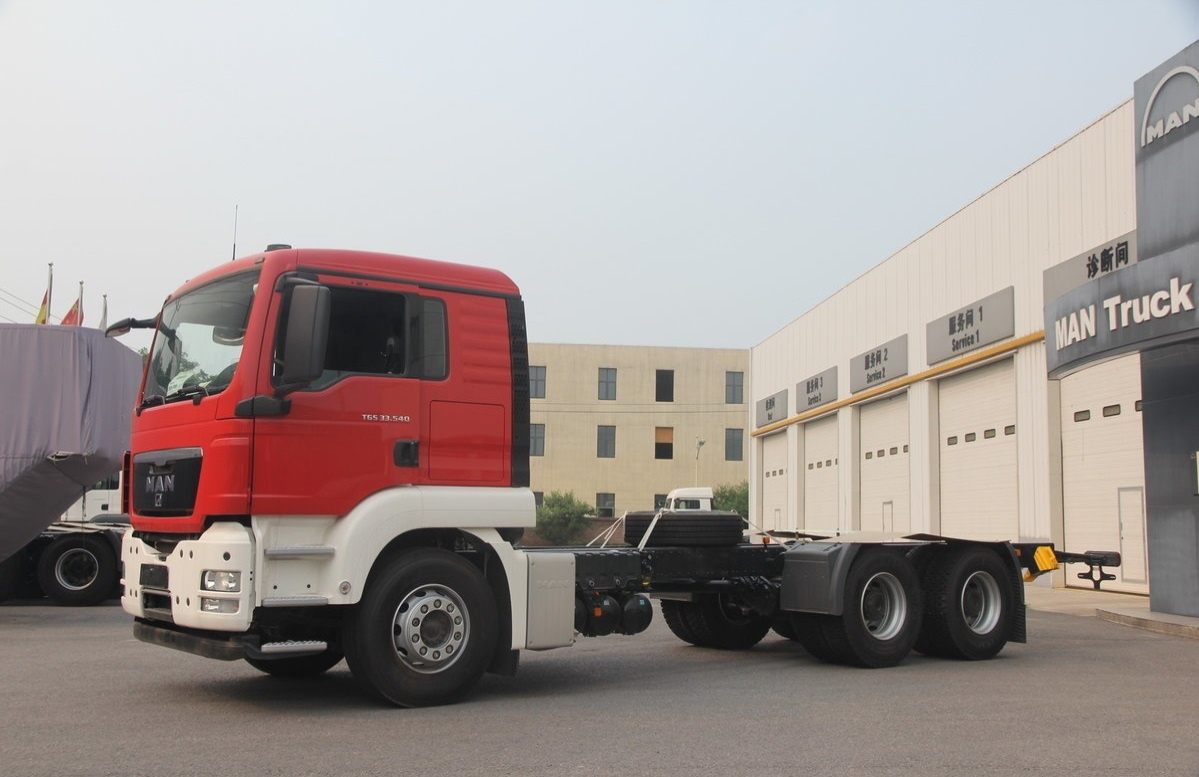heavy truck: (103, 238, 1082, 692)
